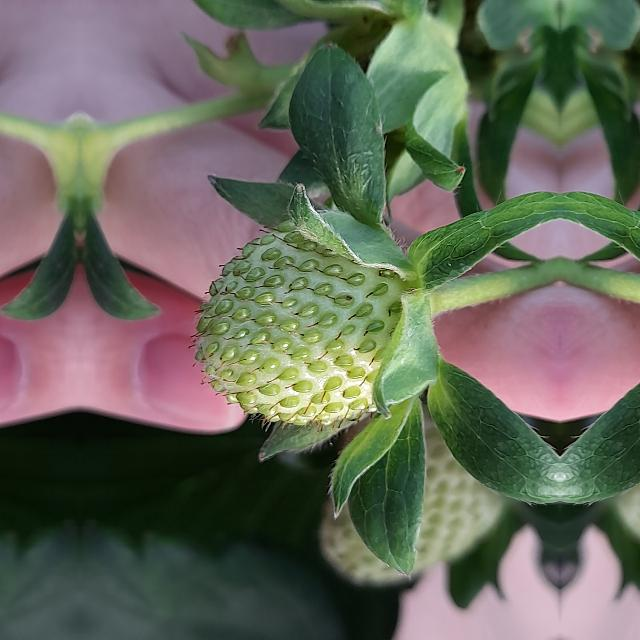Health_25: (186, 215, 414, 432)
